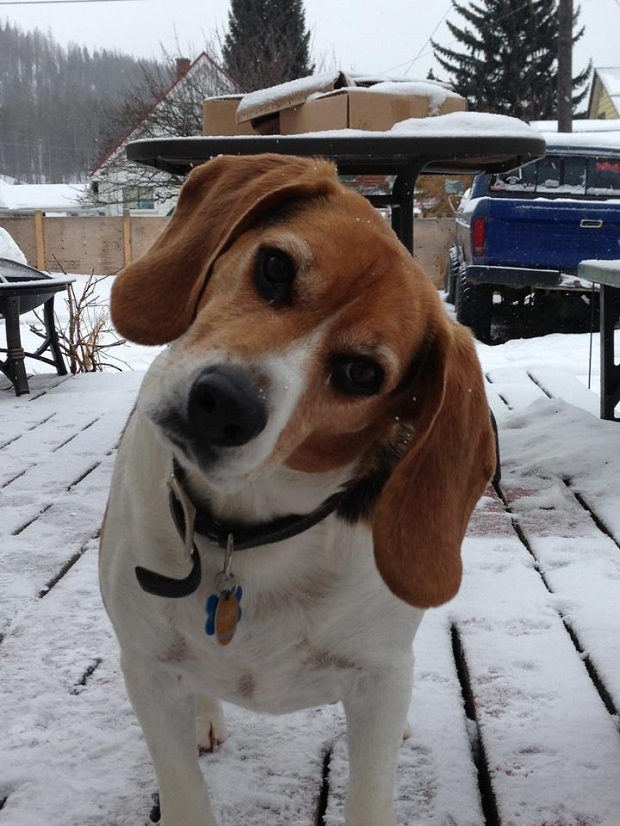dog: (101, 154, 498, 826)
